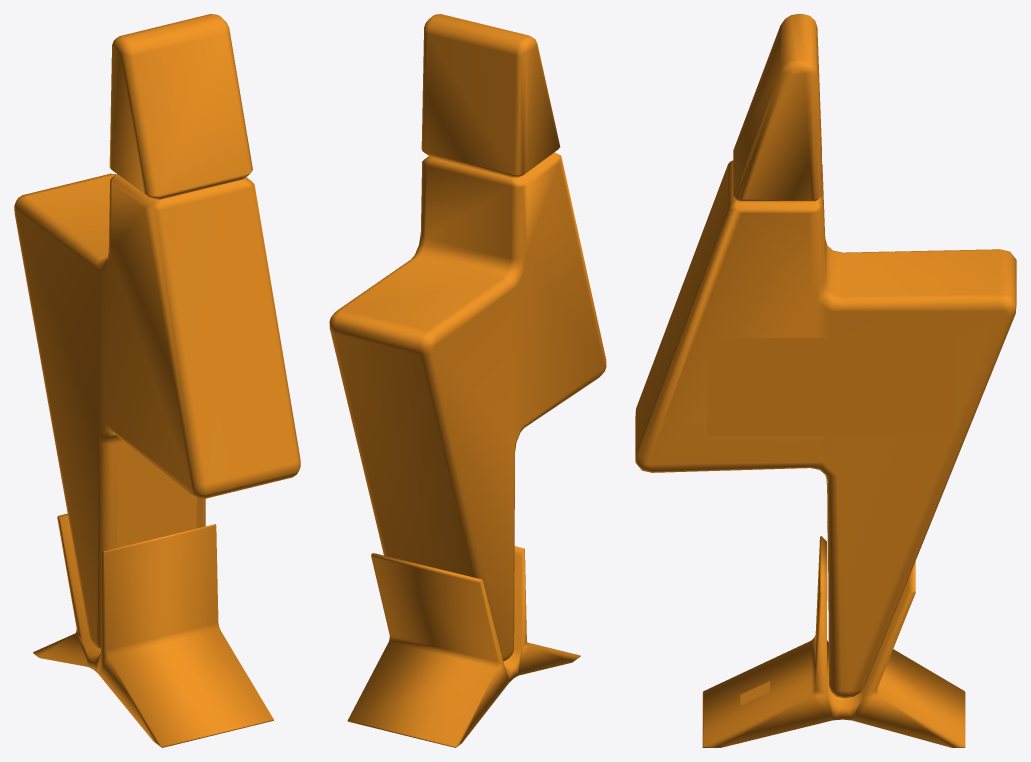
The model's file is lighting.fbx.
3 renders of one model, left to right at view 1: azimuth 30°, elevation 25°; view 2: azimuth 150°, elevation 25°; view 3: azimuth 270°, elevation 25°, orthographic. The views are drawn at different scales.
Visible parts, largest first — view 1: Plane.007; view 2: Plane.007; view 3: Plane.007.
Boxes of the visible parts, x1=… form: Plane.007: x1=14, y1=14, x2=300, y2=747; Plane.007: x1=329, y1=14, x2=606, y2=747; Plane.007: x1=635, y1=14, x2=1016, y2=747.
Size of the model in its own units: 6.97 by 39.88 by 20.18.
